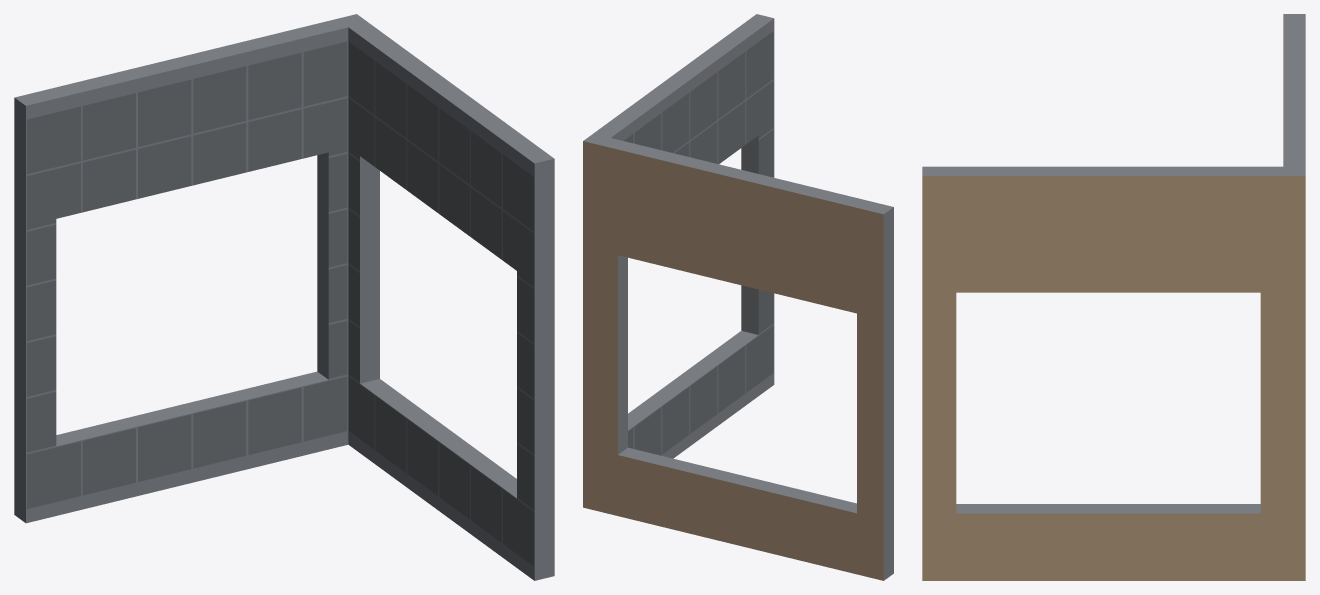
The model's file is Wall2_C7_15.fbx.
The picture shows the model from 3 angles, left to right: view 1: azimuth 30°, elevation 25°; view 2: azimuth 150°, elevation 25°; view 3: azimuth 270°, elevation 25°; orthographic projection. The views are drawn at different scales.
Parts seen in each view (by area): view 1: Wall2_C7_15; view 2: Wall2_C7_15; view 3: Wall2_C7_15.
Part boxes in pixels (x1=…): Wall2_C7_15: x1=14, y1=14, x2=554, y2=580; Wall2_C7_15: x1=583, y1=14, x2=893, y2=580; Wall2_C7_15: x1=922, y1=14, x2=1305, y2=580.
Size of the model in its own units: 258 by 300 by 258.
